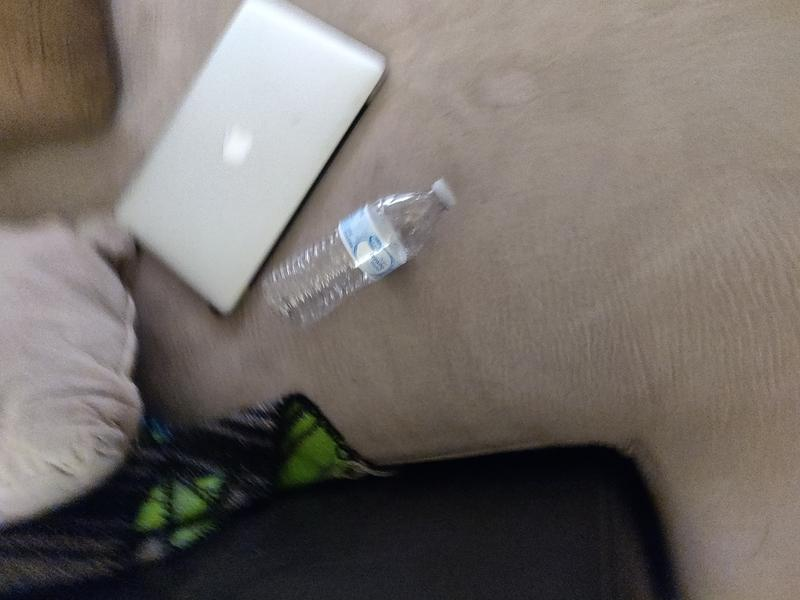bottle: (257, 177, 459, 335)
